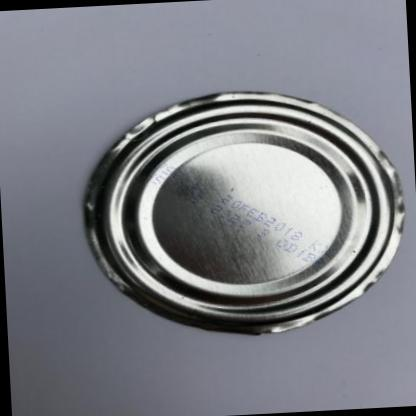Metal: (84, 92, 404, 335)
